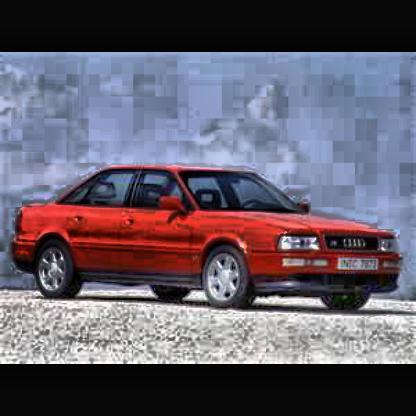Audi 100 Sedan 1994: (10, 164, 409, 312)
